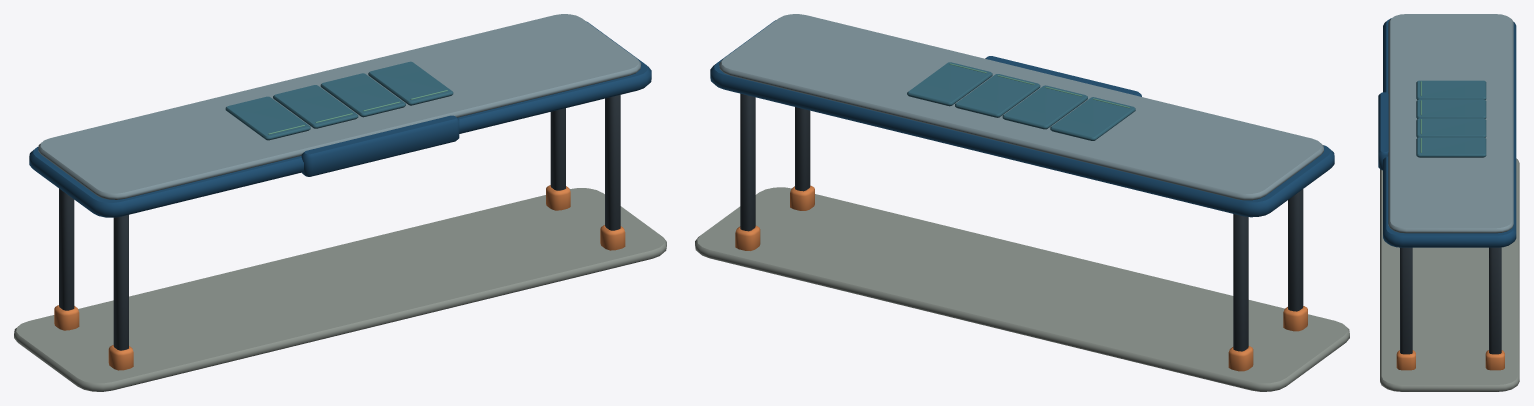
Rendered from metro_truck_park.glb.
3 views of the same model, side by side, from view 1: azimuth 30°, elevation 25°; view 2: azimuth 150°, elevation 25°; view 3: azimuth 270°, elevation 25° (orthographic). The views are drawn at different scales.
Visible parts, largest first — view 1: TruckPark; view 2: TruckPark; view 3: TruckPark.
Boxes of the visible parts, <box> form: TruckPark: <box>14,14,666,391</box>; TruckPark: <box>695,14,1349,391</box>; TruckPark: <box>1378,14,1519,391</box>.
Bounding box in the file's own units: 16.62 × 5.27 × 4.24.
